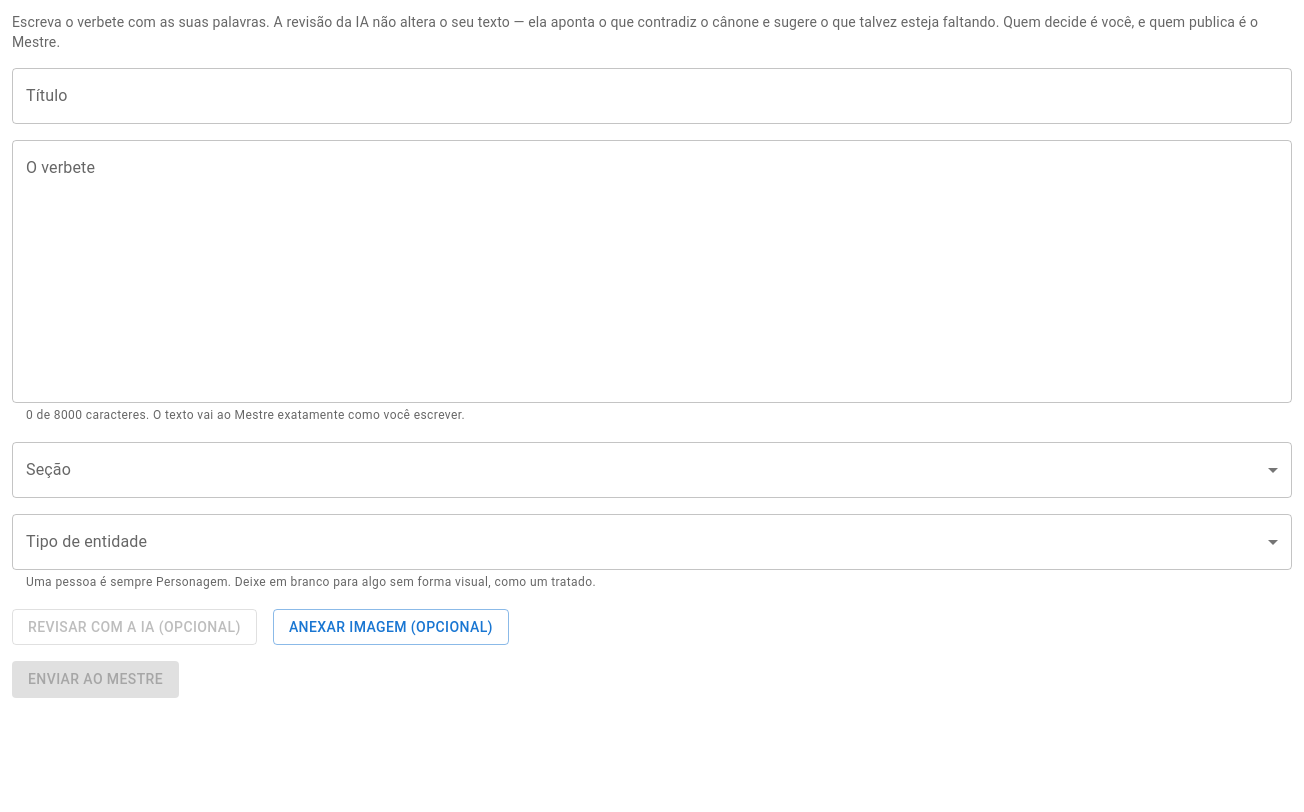
Test: o que a revisão mostra › mostra sugestões sem tocar no texto
In the field labelled "Título": (652, 96) top-left (12, 68), bottom-right (1292, 124), type "Sera de Toreador"
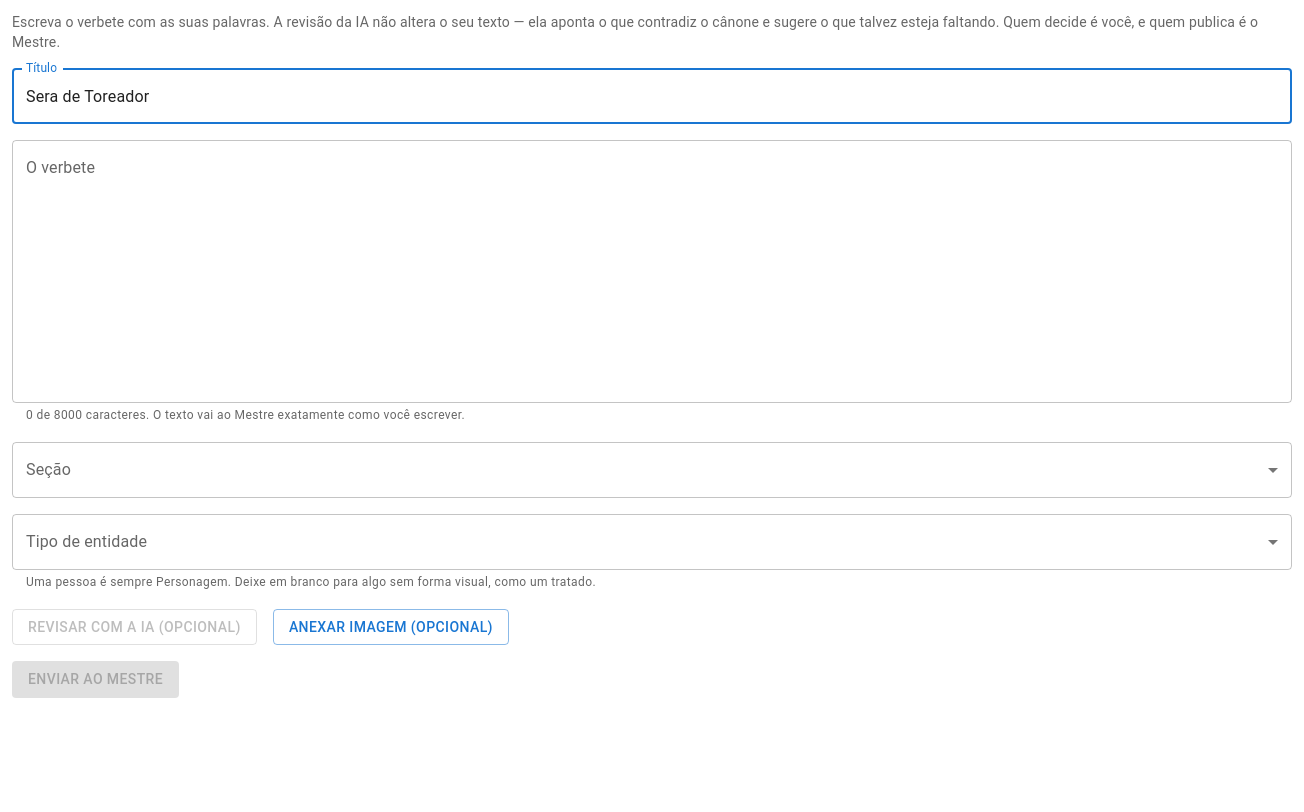
In the text box labelled "O verbete": (652, 272) top-left (26, 156), bottom-right (1278, 386), type "Batedora das fronteiras do Norte, conhecida por atravessar o Muro dos Ausentes sozinha em pleno inverno."
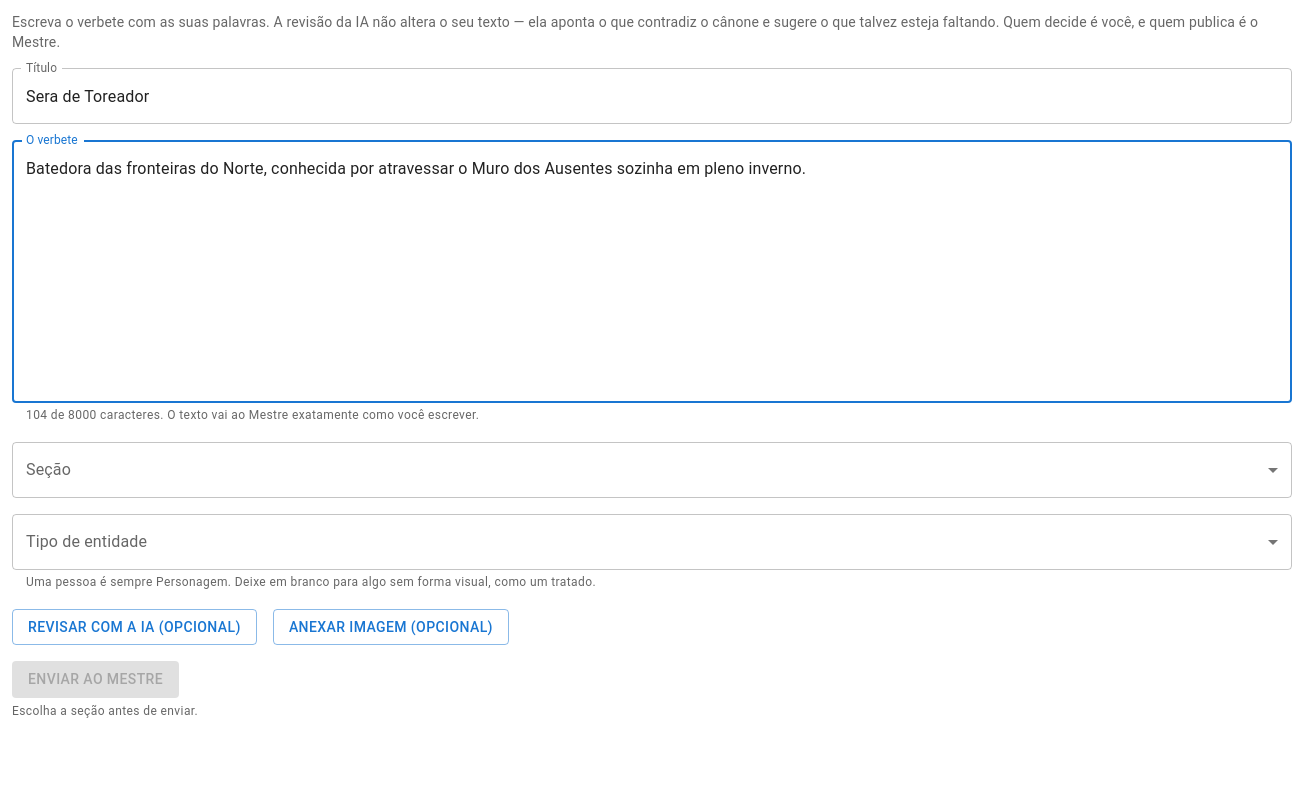
Click the button "Revisar com a IA (opcional)": (134, 627) top-left (12, 609), bottom-right (257, 645)
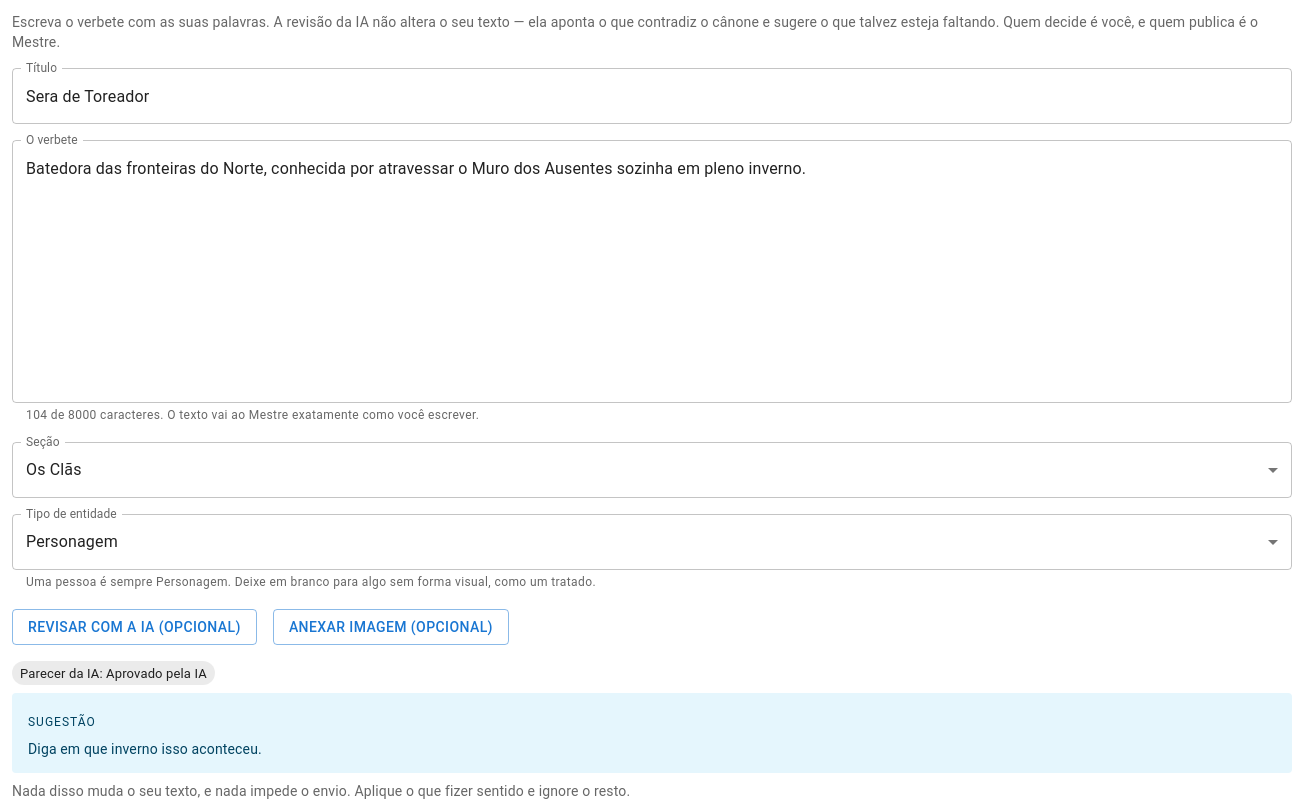
Now the text "Sugestão Diga em que inverno isso aconteceu." is shown, box top-left (28, 699), bottom-right (262, 767)
